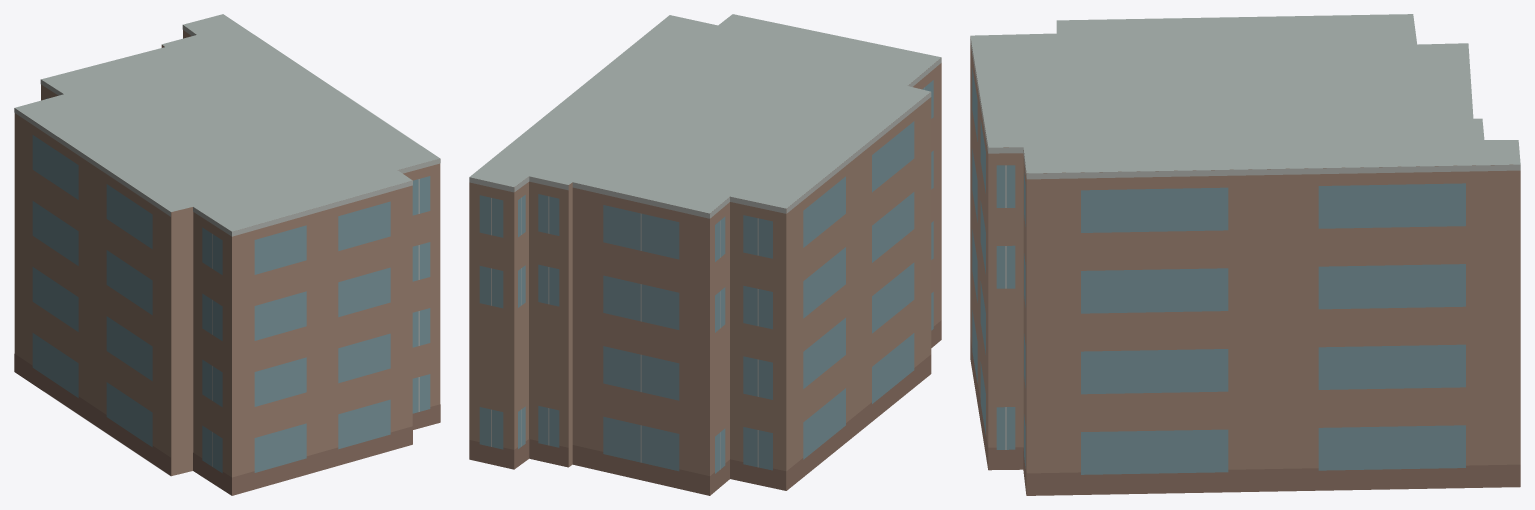
The model's file is survey-upis-32614548.glb.
The picture shows the model from 3 angles, left to right: view 1: azimuth 30°, elevation 25°; view 2: azimuth 150°, elevation 25°; view 3: azimuth 270°, elevation 25°; orthographic projection. The views are drawn at different scales.
Visible parts, largest first — view 1: survey-upis-32614548.tmp; view 2: survey-upis-32614548.tmp; view 3: survey-upis-32614548.tmp.
Part boxes in pixels (x1=…): survey-upis-32614548.tmp: x1=14, y1=14, x2=440, y2=495; survey-upis-32614548.tmp: x1=469, y1=14, x2=941, y2=495; survey-upis-32614548.tmp: x1=970, y1=14, x2=1520, y2=495.
Size of the model in its own units: 13.95 by 13.15 by 20.35.
